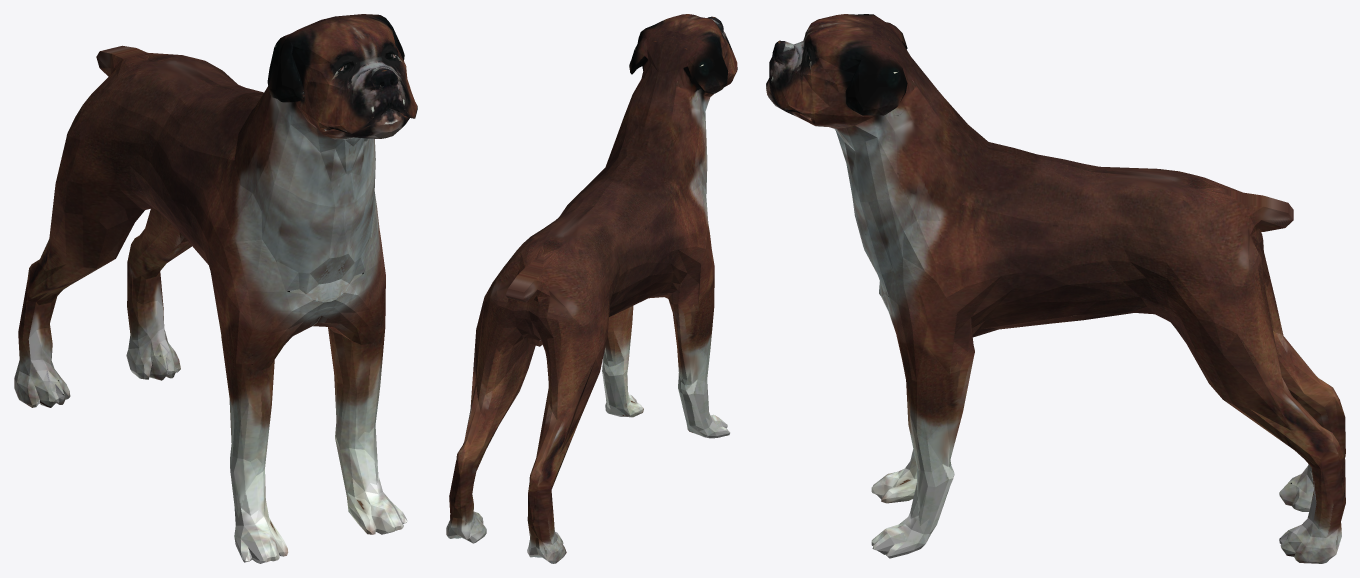
File: AnimalDog.fbx
The picture shows the model from 3 angles, left to right: view 1: azimuth 30°, elevation 25°; view 2: azimuth 150°, elevation 25°; view 3: azimuth 270°, elevation 25°; orthographic projection. The views are drawn at different scales.
Visible parts, largest first — view 1: Labradoe.001; view 2: Labradoe.001; view 3: Labradoe.001.
Boxes of the visible parts, bbox=[...] form: Labradoe.001: bbox=[14, 14, 417, 563]; Labradoe.001: bbox=[446, 14, 737, 563]; Labradoe.001: bbox=[766, 14, 1345, 563].
Size of the model in its own units: 177 by 554 by 574.
1 material, 1 textured.
